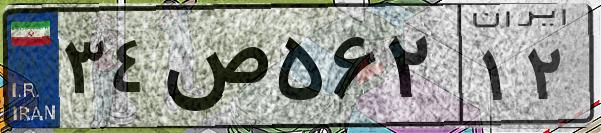1: (475, 38, 525, 113)
2: (385, 28, 445, 110), (525, 38, 570, 115)
3: (57, 26, 110, 100)
4: (110, 28, 158, 98)
5: (270, 28, 330, 110)
6: (330, 28, 385, 110)
ص: (158, 20, 270, 120)
